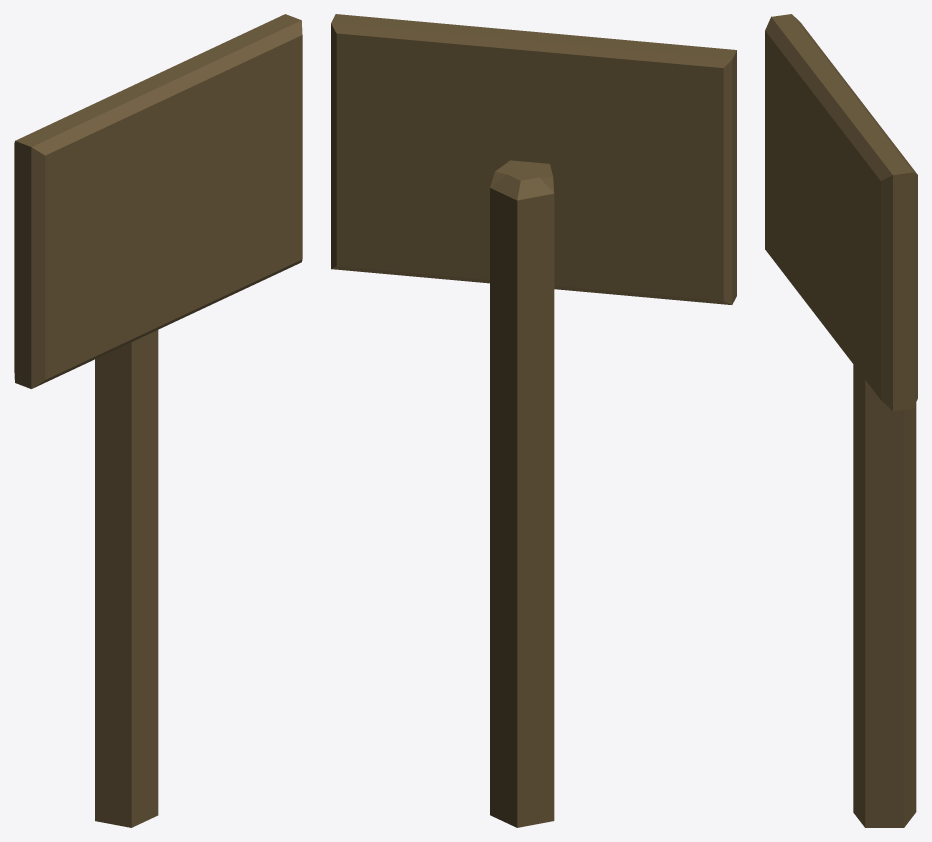
File: Sign.fbx
3 views of the same model, side by side, from view 1: azimuth 30°, elevation 25°; view 2: azimuth 150°, elevation 25°; view 3: azimuth 270°, elevation 25° (orthographic). The views are drawn at different scales.
Parts seen in each view (by area): view 1: pCylinder1; view 2: pCylinder1; view 3: pCylinder1.
Part boxes in pixels (x1,y1,x2,y2): pCylinder1: [14, 14, 302, 827]; pCylinder1: [331, 14, 736, 827]; pCylinder1: [765, 14, 917, 827].
Size of the model in its own units: 1.32 by 2.79 by 0.5308.
